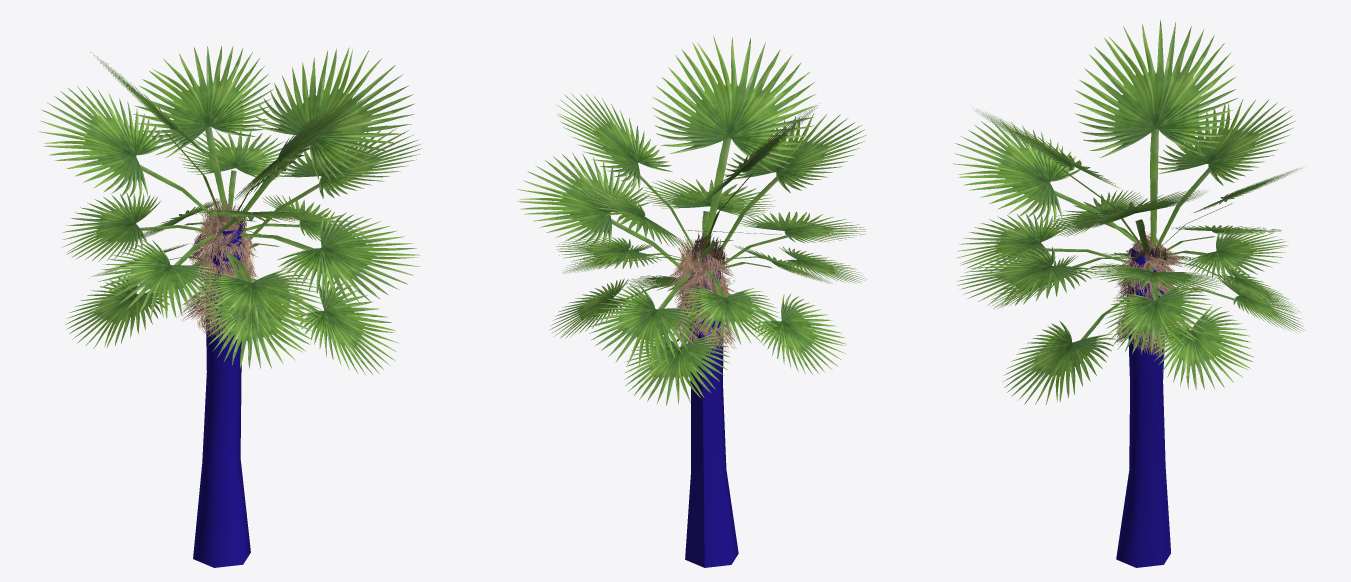
File: pacp_2s_LOD1.fbx
3 views of the same model, side by side, from view 1: azimuth 30°, elevation 25°; view 2: azimuth 150°, elevation 25°; view 3: azimuth 270°, elevation 25° (orthographic). The views are drawn at different scales.
Parts seen in each view (by area): view 1: Model::Circle.003; view 2: Model::Circle.003; view 3: Model::Circle.003.
Boxes of the visible parts, box(x1,y1,x2,y2) form: Model::Circle.003: box(39, 46, 421, 567); Model::Circle.003: box(517, 36, 866, 567); Model::Circle.003: box(953, 19, 1305, 567).
Size of the model in its own units: 1411 by 1899 by 1437.
